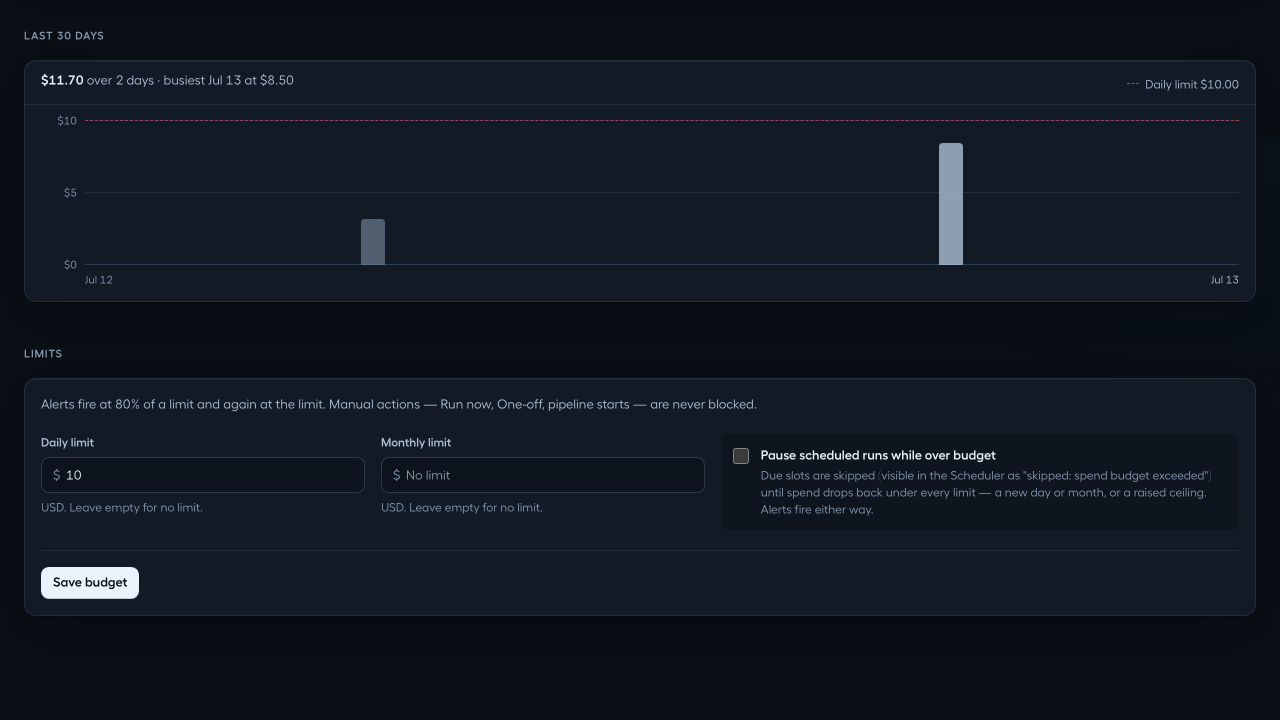
Test: Budget › disables Save while a limit is not a positive number
The width and height of the screenshot is (1280, 720).
(page scrolled)
Step 1. Replace the text in the field labelled "Daily limit" with "-5" → (203, 475), box [41,457,365,493]
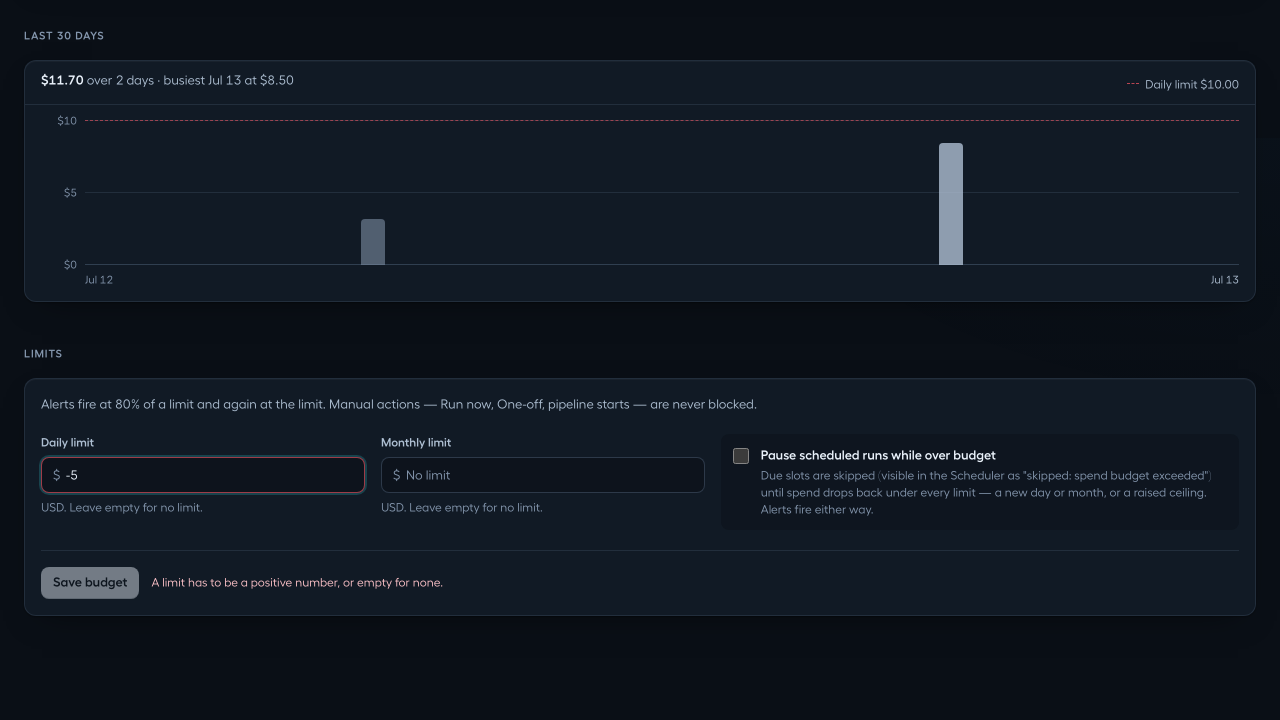
expect the button "Save budget" is disabled: met, box [41,566,140,598]
Step 2. Clear the field labelled "Daily limit" → (203, 475), box [41,457,365,493]
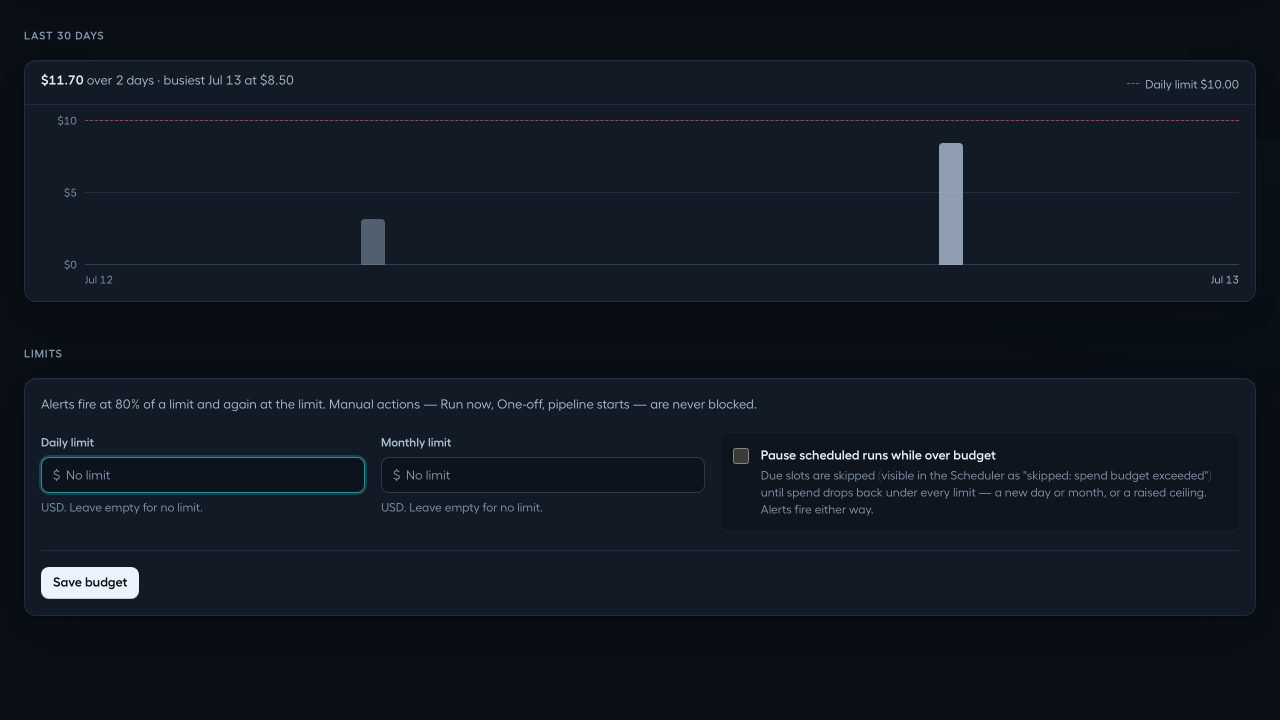
expect the button "Save budget" is enabled: met, box [41,566,140,598]
